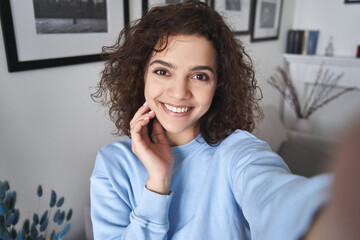teen: (106, 8, 266, 153)
